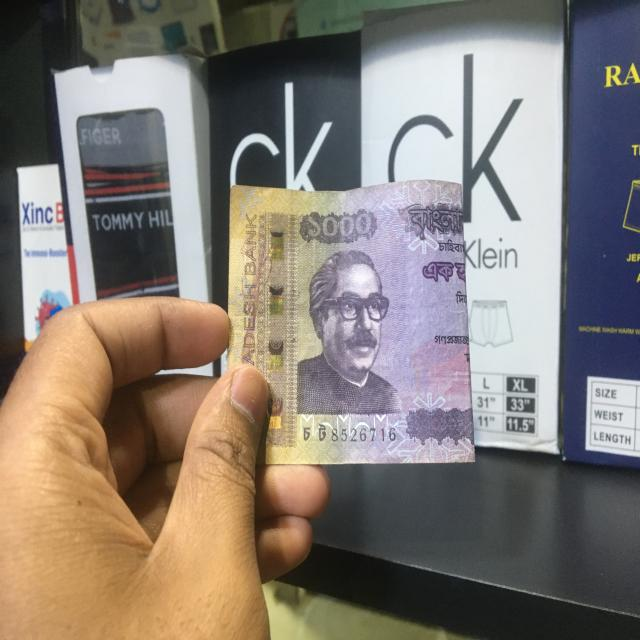Taka: (228, 185, 472, 464)
